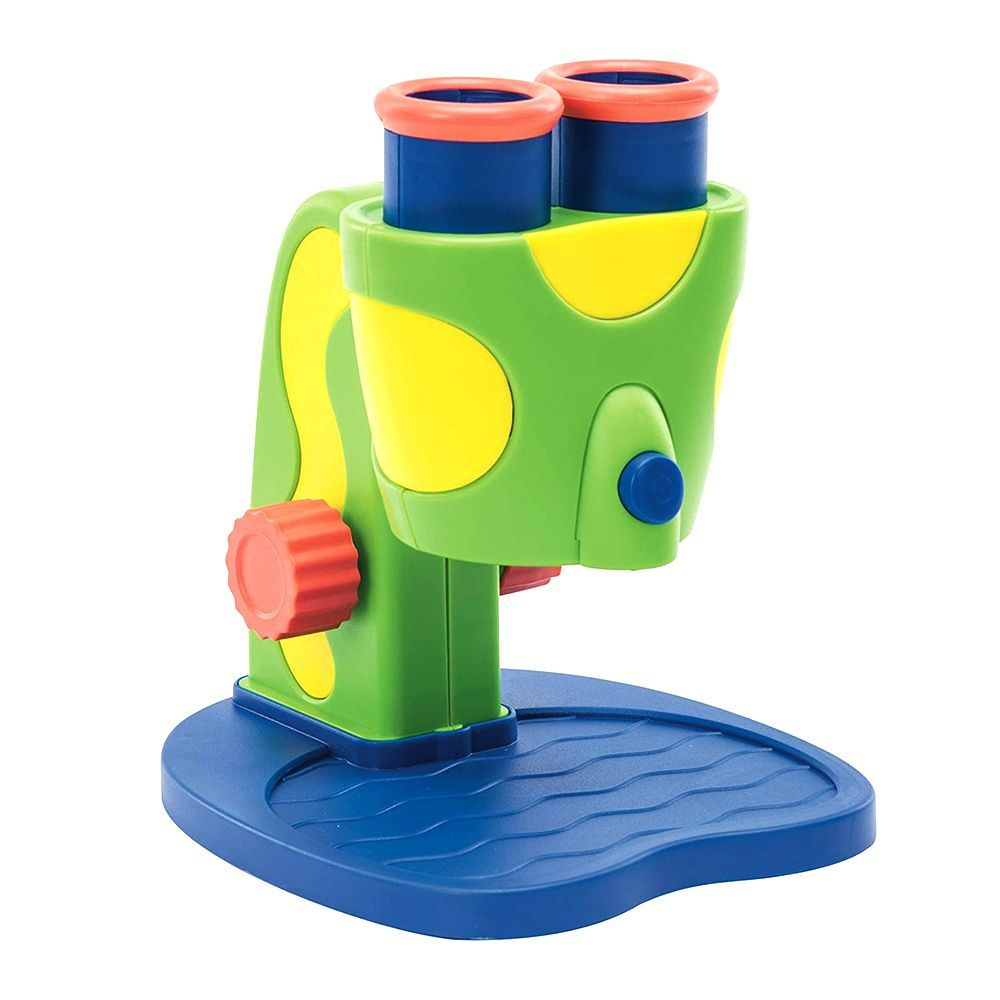toy: (137, 29, 773, 953)
